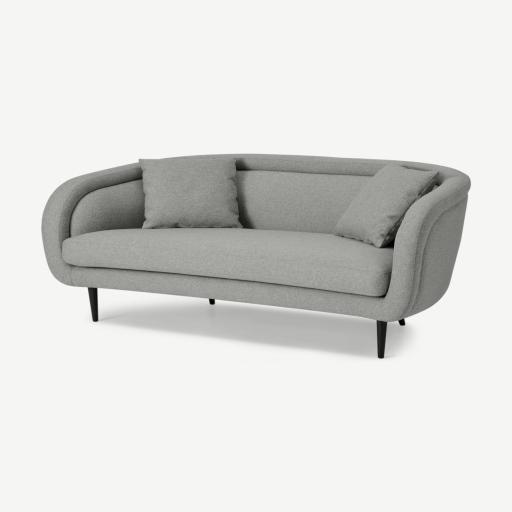back_cushion: (148, 159, 438, 246)
base: (64, 264, 420, 324)
left_arm: (378, 169, 470, 323)
legs: (375, 323, 384, 360), (86, 286, 94, 322), (403, 320, 408, 327)
right_arm: (42, 157, 150, 282)
seat_cushion: (60, 227, 385, 300)
two-seater: (0, 0, 511, 512)
